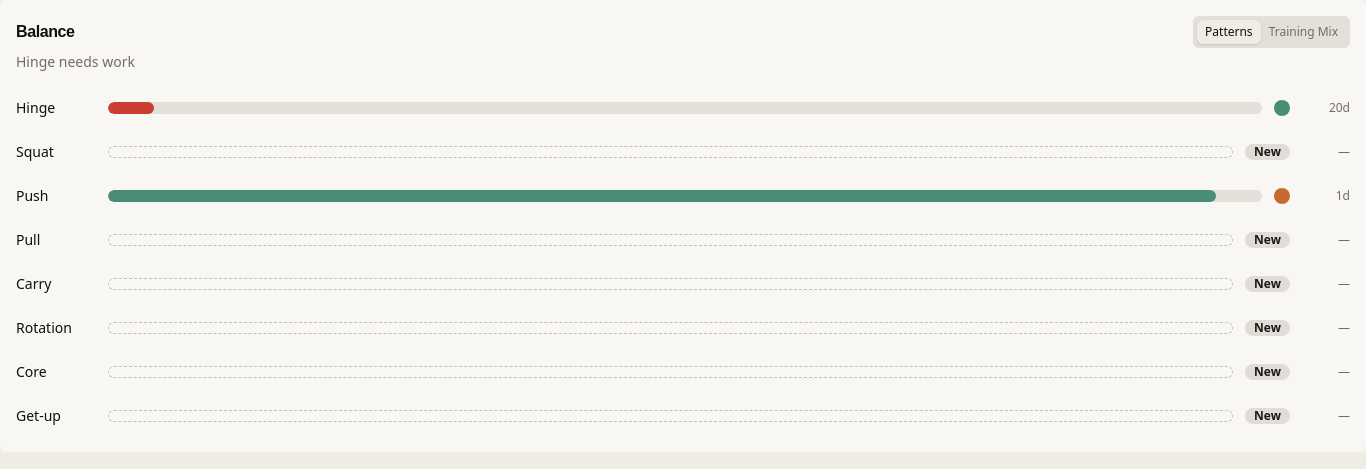
Test case: TrainingBalance › switching to the Training Mix tab shows the four modalities
The width and height of the screenshot is (1366, 469).
Click the tab "Training Mix" at (1303, 32), box 1261,20 -> 1346,44
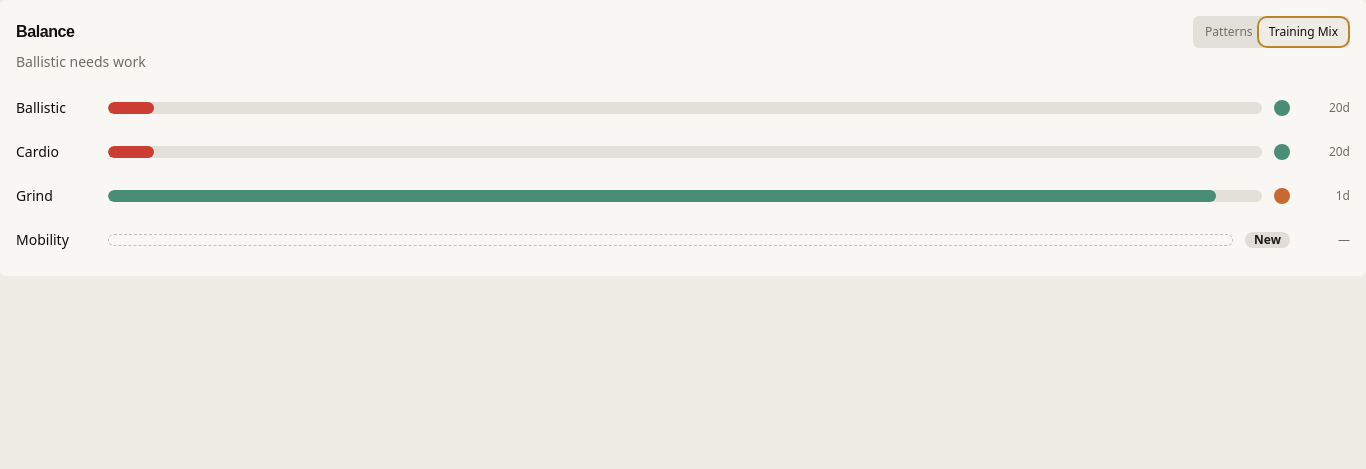
Expected: the text "Grind" is shown, 16,186 -> 53,205
Expected: the text "Ballistic" is shown, 16,98 -> 66,117
Expected: the text "Cardio" is shown, 16,142 -> 59,161
